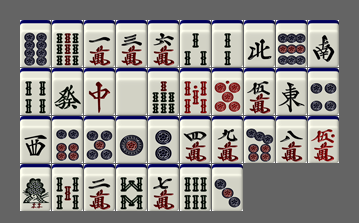0m: (308, 116, 339, 163)
0p: (212, 68, 243, 115)
0s: (180, 68, 211, 115)
1m: (84, 20, 115, 67)
1p: (116, 116, 147, 163)
1s: (20, 164, 51, 211)
1z: (276, 68, 307, 115)
2m: (84, 164, 115, 211)
2p: (148, 116, 179, 163)
2s: (212, 20, 243, 67)
2z: (308, 20, 339, 67)
3m: (116, 20, 147, 67)
3p: (212, 164, 243, 211)
3s: (180, 20, 211, 67)
3z: (20, 116, 51, 163)
4m: (180, 116, 211, 163)
4p: (308, 68, 339, 115)
4s: (20, 68, 51, 115)
4z: (244, 20, 275, 67)
5m: (244, 68, 275, 115)
5p: (84, 116, 115, 163)
5s: (52, 164, 83, 211)
5z: (116, 68, 147, 115)
6m: (148, 20, 179, 67)
6p: (52, 116, 83, 163)
6s: (180, 164, 211, 211)
6z: (52, 68, 83, 115)
7m: (148, 164, 179, 211)
7p: (244, 116, 275, 163)
7s: (148, 68, 179, 115)
7z: (84, 68, 115, 115)
8m: (276, 116, 307, 163)
8p: (20, 20, 51, 67)
8s: (116, 164, 147, 211)
9m: (212, 116, 243, 163)
9p: (276, 20, 307, 67)
9s: (52, 20, 83, 67)
